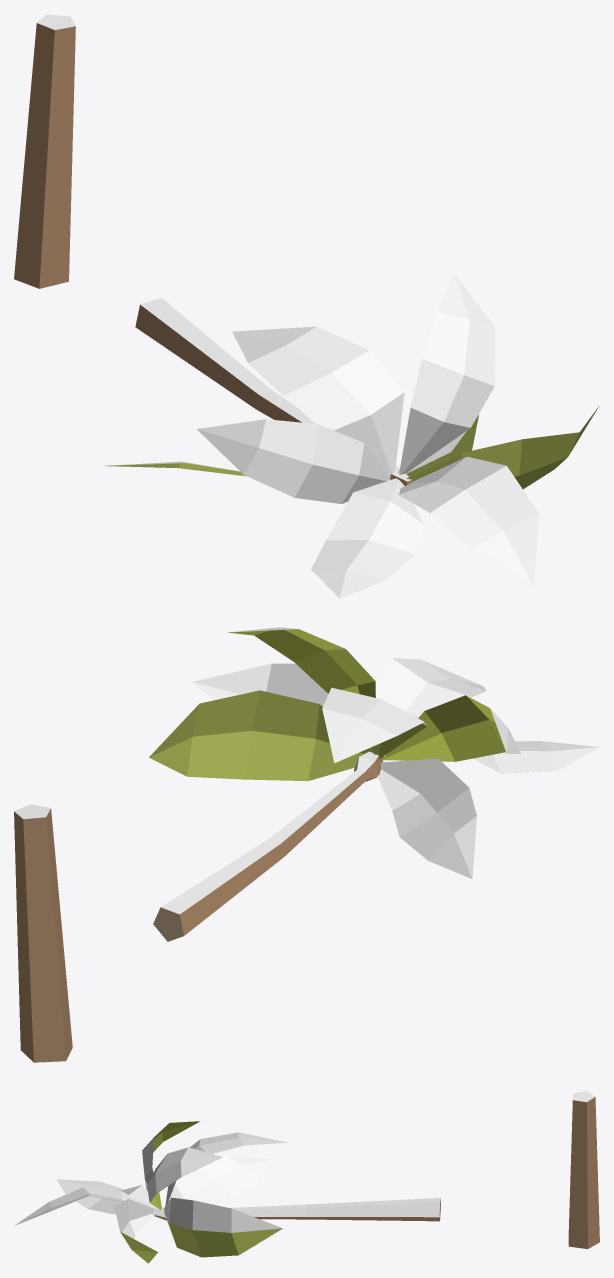
File: Palm_Tree_crk_l_Snow_01_LOD.fbx
3 renders of one model, top to bottom at view 1: azimuth 30°, elevation 25°; view 2: azimuth 150°, elevation 25°; view 3: azimuth 270°, elevation 25°, orthographic. The views are drawn at different scales.
Parts seen in each view (by area): view 1: Palm_Tree_crk_l_Snow_01_LOD0; view 2: Palm_Tree_crk_l_Snow_01_LOD0; view 3: Palm_Tree_crk_l_Snow_01_LOD0.
Boxes of the visible parts, x1,y1,x2,y2 form: Palm_Tree_crk_l_Snow_01_LOD0: [14, 14, 598, 598]; Palm_Tree_crk_l_Snow_01_LOD0: [14, 627, 599, 1062]; Palm_Tree_crk_l_Snow_01_LOD0: [15, 1091, 599, 1263].
Size of what is drawn, in the model's own units: 476 by 289 by 1019.
